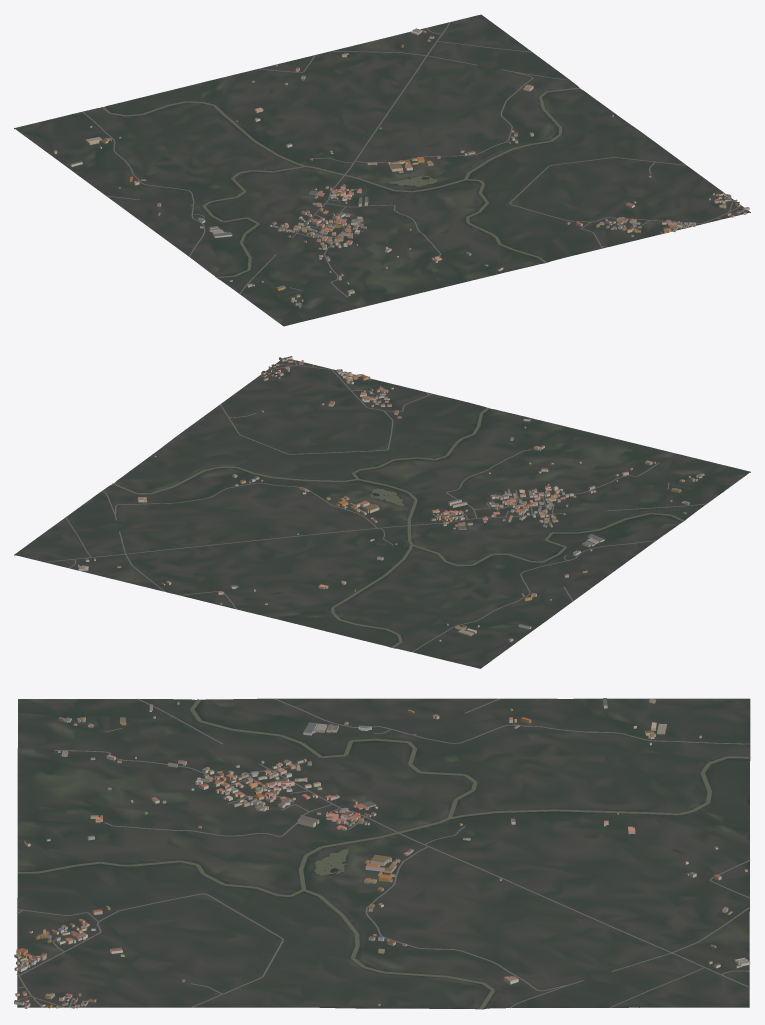
The picture shows the model from 3 angles, top to bottom: view 1: azimuth 30°, elevation 25°; view 2: azimuth 150°, elevation 25°; view 3: azimuth 270°, elevation 25°; orthographic projection. The views are drawn at different scales.
Parts seen in each view (by area): view 1: ground, buildings, roads, water; view 2: ground, buildings, roads, water; view 3: ground, buildings, water, roads.
Part boxes in pixels (<box>): ground: <box>14,14,750,326</box>; buildings: <box>54,28,749,307</box>; roads: <box>82,22,741,297</box>; water: <box>101,87,580,278</box>; ground: <box>14,357,750,668</box>; buildings: <box>78,356,704,641</box>; roads: <box>45,360,706,652</box>; water: <box>112,407,684,647</box>; ground: <box>17,698,750,1009</box>; buildings: <box>14,698,750,1008</box>; water: <box>17,699,750,1009</box>; roads: <box>16,698,750,1008</box>.
Bounding box in the file's own units: 1406 × 14.9 × 1411.
